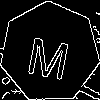M: (24, 27, 74, 81)
